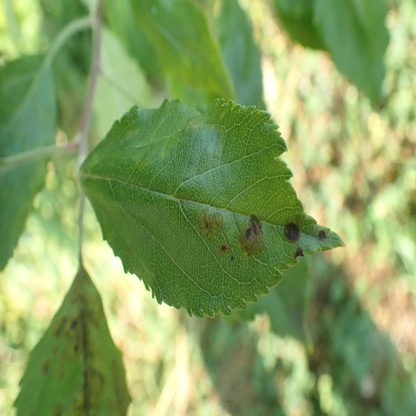scab: (40, 273, 124, 416), (133, 106, 199, 164), (239, 217, 264, 256), (199, 209, 222, 238), (283, 221, 300, 244), (121, 127, 143, 142), (293, 246, 305, 258), (220, 242, 231, 254), (318, 229, 328, 241), (219, 110, 225, 118)
